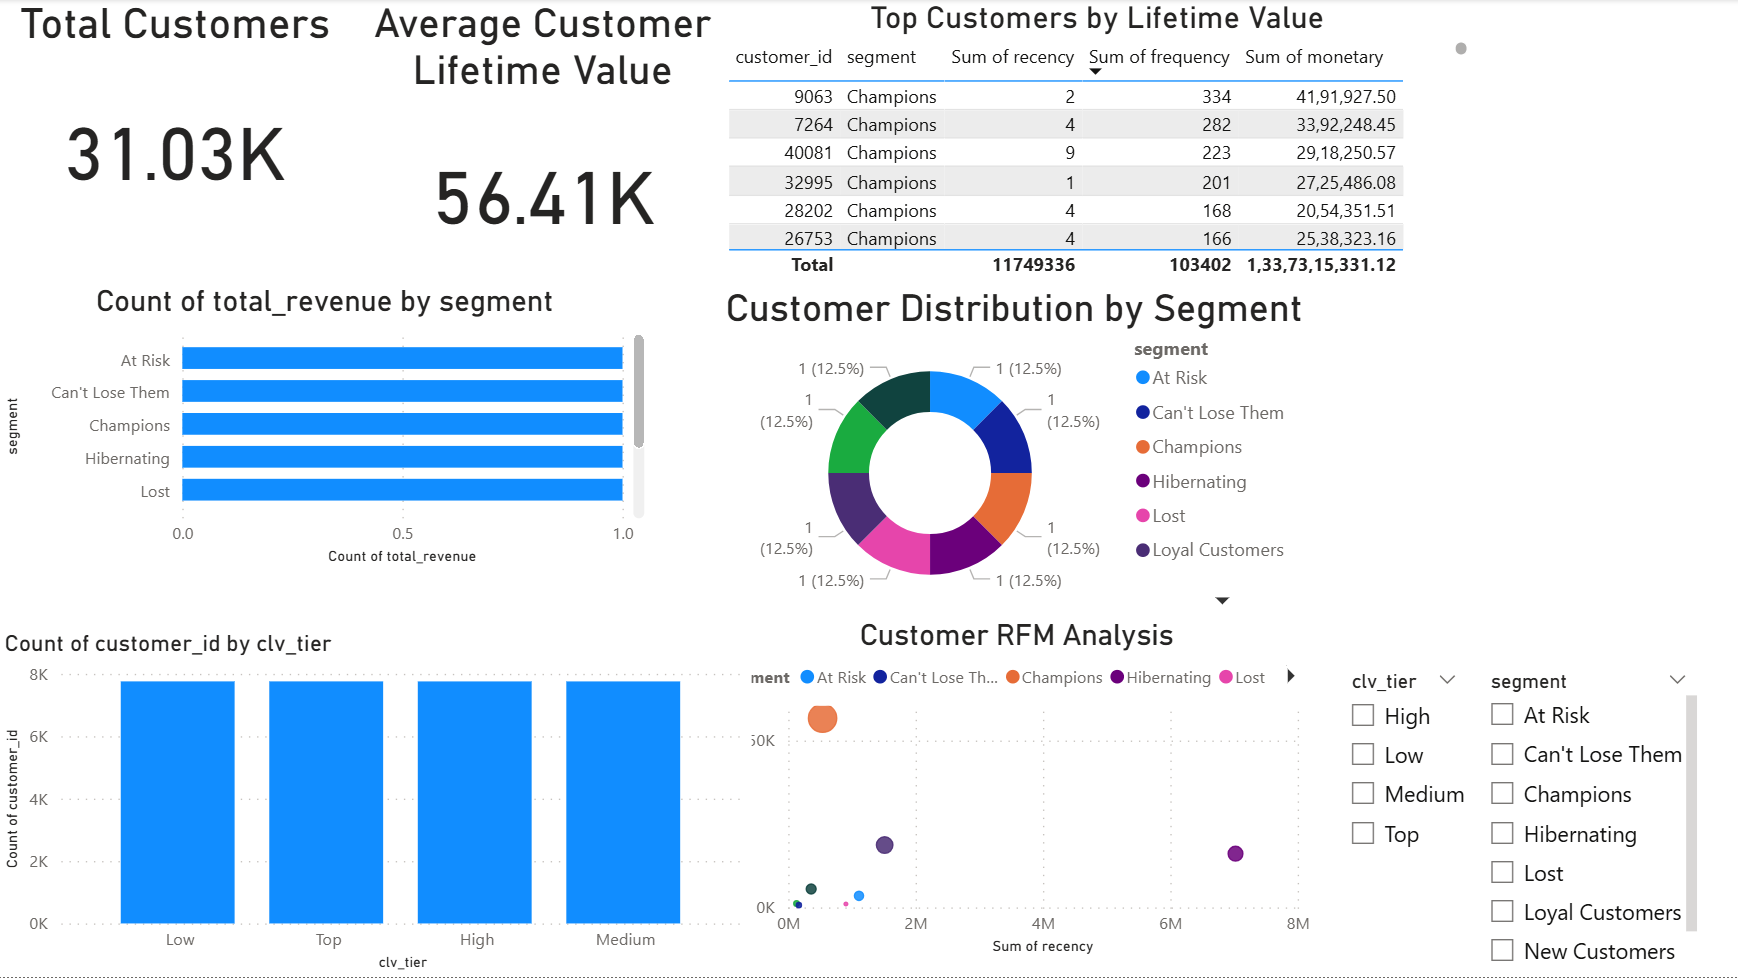

Layout of this report page (visuals, bound fields, positions):
{"tool":"powerbi","page":{"name":"Customer Analytics","canvas":[1280,720],"ordinal":1},"visuals":[{"type":"card","title":"Total Customers","fields":{"Values":["Count(rfm_customer_segments.customer_id)"]},"box":[0,0,260.7,179.8],"z":0},{"type":"card","title":"Average Customer Lifetime Value","fields":{"Values":["Avg(customer_lifetime_value.clv)"]},"box":[270.3,0,260.7,209.9],"z":1000},{"type":"donutChart","title":"Customer Distribution by Segment","fields":{"Category":["rfm_segment_summary.segment"],"Y":["CountNonNull(rfm_segment_summary.customer_count)"]},"box":[530.4,211.4,437.5,243.7],"z":2000},{"type":"clusteredBarChart","fields":{"Category":["rfm_segment_summary.segment"],"Y":["CountNonNull(rfm_segment_summary.total_revenue)"]},"box":[0,210,480.6,211.4],"z":3000},{"type":"scatterChart","title":"Customer RFM Analysis","fields":{"X":["Sum(rfm_customer_segments.recency)"],"Y":["Sum(rfm_customer_segments.frequency)"],"Size":["Sum(rfm_customer_segments.monetary)"],"Series":["rfm_customer_segments.segment"]},"box":[529.1,455,441.6,253.1],"z":4000},{"type":"tableEx","title":"Top Customers by Lifetime Value","fields":{"Values":["rfm_customer_segments.customer_id","rfm_customer_segments.segment","Sum(rfm_customer_segments.recency)","Sum(rfm_customer_segments.frequency)","Sum(rfm_customer_segments.monetary)"]},"box":[531,0,554.4,209.9],"z":5000},{"type":"actionButton","box":[0,0,100,40],"z":6000},{"type":"clusteredColumnChart","fields":{"Category":["customer_lifetime_value.clv_tier"],"Y":["CountNonNull(customer_lifetime_value.customer_id)"]},"box":[0,463.8,554.4,256.6],"z":7000},{"type":"slicer","fields":{"Values":["rfm_customer_segments.segment"]},"box":[1085.1,488.7,169.6,230.2],"z":8000},{"type":"slicer","fields":{"Values":["customer_lifetime_value.clv_tier"]},"box":[982.8,488.7,102.3,231.6],"z":9000}]}

Visuals, with their boxes in screenshot pixels (x1, y1, x2, y2), scaled from the page's 1280x720 canvas onto the 1738x978 screenshot:
"Total Customers" card: [x1=0, y1=0, x2=354, y2=244]
"Average Customer Lifetime Value" card: [x1=367, y1=0, x2=721, y2=285]
"Customer Distribution by Segment" donutChart: [x1=720, y1=287, x2=1314, y2=618]
clusteredBarChart - rfm_segment_summary.segment x CountNonNull(rfm_segment_summary.total_revenue): [x1=0, y1=285, x2=653, y2=572]
"Customer RFM Analysis" scatterChart: [x1=718, y1=618, x2=1318, y2=962]
"Top Customers by Lifetime Value" tableEx: [x1=721, y1=0, x2=1474, y2=285]
actionButton: [x1=0, y1=0, x2=136, y2=54]
clusteredColumnChart - customer_lifetime_value.clv_tier x CountNonNull(customer_lifetime_value.customer_id): [x1=0, y1=630, x2=753, y2=977]
slicer - rfm_customer_segments.segment: [x1=1473, y1=664, x2=1704, y2=977]
slicer - customer_lifetime_value.clv_tier: [x1=1334, y1=664, x2=1473, y2=977]
